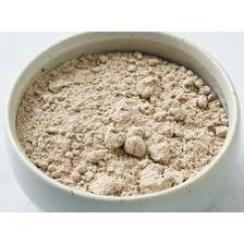powder: (0, 0, 244, 244)
